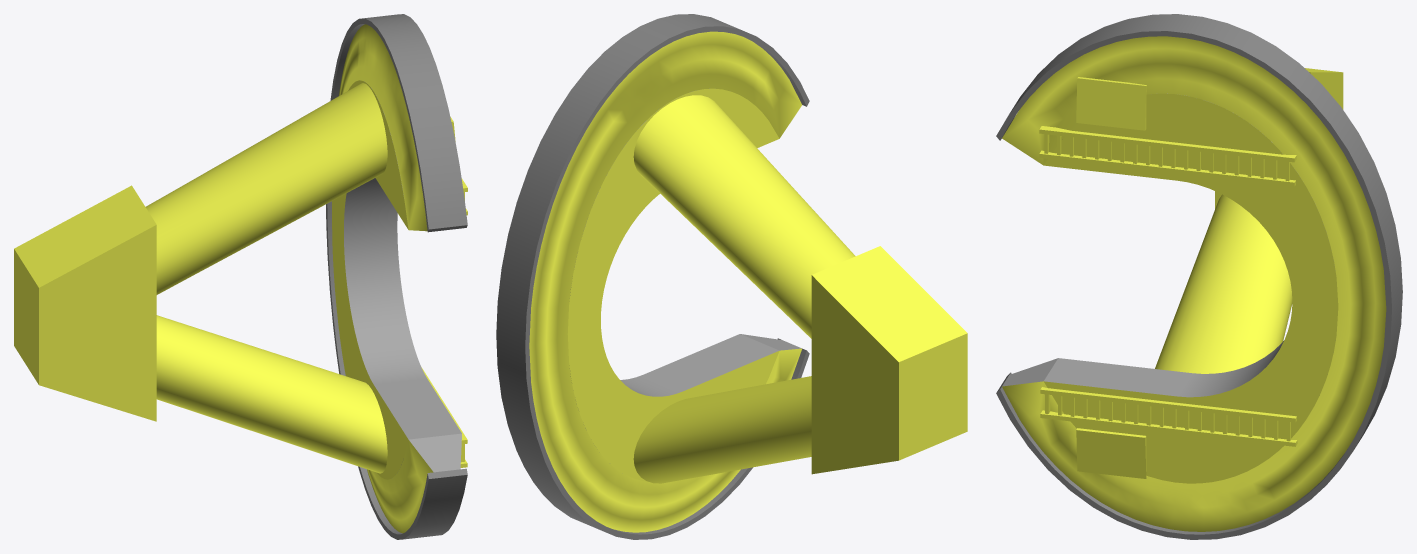
File: fork v4.fbx
3 views of the same model, side by side, from view 1: azimuth 30°, elevation 25°; view 2: azimuth 150°, elevation 25°; view 3: azimuth 270°, elevation 25° (orthographic). The views are drawn at different scales.
Visible parts, largest first — view 1: Body1 (×2), Body4 (×2), Body3, Body8, Body7, Body6; view 2: Body4 (×2), Body1 (×2), Body8, Body7, Body3; view 3: Body3 (×2), Body2, Body1 (×5), Body8, Body4, Body6.
Part boxes in pixels (bbox=[...]): Body1 (×2): bbox=[145, 81, 461, 464]; Body4 (×2): bbox=[14, 24, 433, 533]; Body3: bbox=[156, 315, 387, 473]; Body8: bbox=[326, 14, 467, 539]; Body7: bbox=[332, 80, 408, 479]; Body6: bbox=[409, 433, 461, 472]; Body4 (×2): bbox=[529, 31, 967, 532]; Body1 (×2): bbox=[570, 88, 855, 428]; Body8: bbox=[496, 14, 809, 539]; Body7: bbox=[567, 88, 779, 481]; Body3: bbox=[633, 376, 811, 483]; Body3 (×2): bbox=[1044, 93, 1338, 483]; Body2: bbox=[1002, 36, 1386, 531]; Body1 (×5): bbox=[1039, 77, 1297, 478]; Body8: bbox=[996, 14, 1402, 539]; Body4: bbox=[1215, 68, 1343, 208]; Body6: bbox=[1002, 358, 1057, 386].
Bounding box in the file's own units: 10924 × 12951 × 9433.
